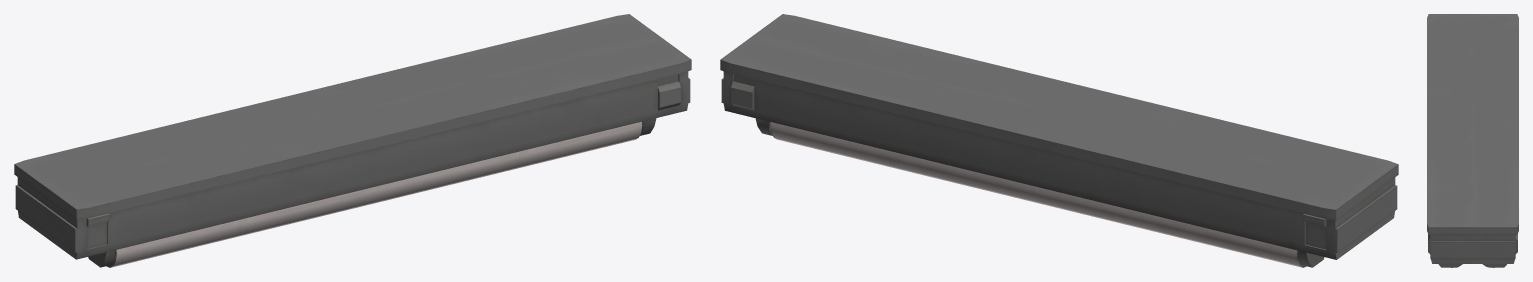
The model's file is fluorescent_light.glb.
3 renders of one model, left to right at view 1: azimuth 30°, elevation 25°; view 2: azimuth 150°, elevation 25°; view 3: azimuth 270°, elevation 25°, orthographic. The views are drawn at different scales.
Visible parts, largest first — view 1: FluorescentLights; view 2: FluorescentLights; view 3: FluorescentLights.
Part boxes in pixels (x1,y1,x2,y2): FluorescentLights: (14,14,691,267); FluorescentLights: (720,14,1398,267); FluorescentLights: (1427,14,1518,267).
Bounding box in the file's own units: 2.3 × 0.2819 × 0.4188.
1 material, 1 textured.
